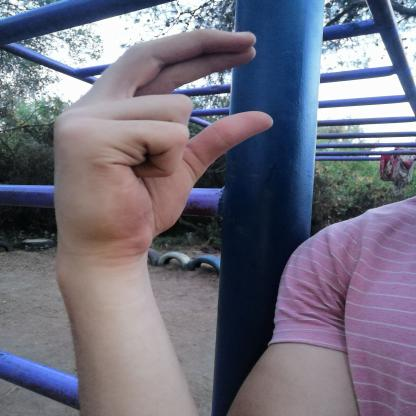DHELL: (33, 16, 284, 264)
